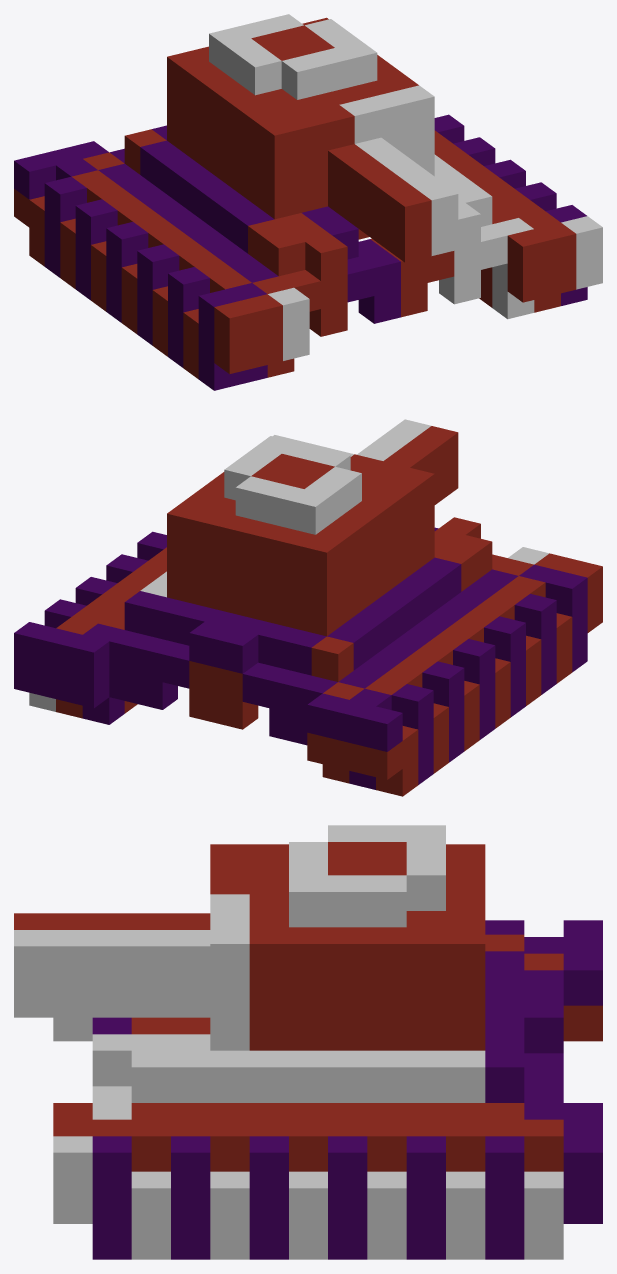
The model's file is super_red_tank.glb.
The picture shows the model from 3 angles, top to bottom: view 1: azimuth 30°, elevation 25°; view 2: azimuth 150°, elevation 25°; view 3: azimuth 270°, elevation 25°; orthographic projection. The views are drawn at different scales.
Parts seen in each view (by area): view 1: Object_2.021; view 2: Object_2.021; view 3: Object_2.021.
Part boxes in pixels (box(x1,y1,x2,y2)): Object_2.021: box(14, 14, 602, 390); Object_2.021: box(14, 419, 602, 796); Object_2.021: box(14, 825, 602, 1259).
Size of the model in its own units: 14 by 8 by 15.
1 material, 1 textured.
